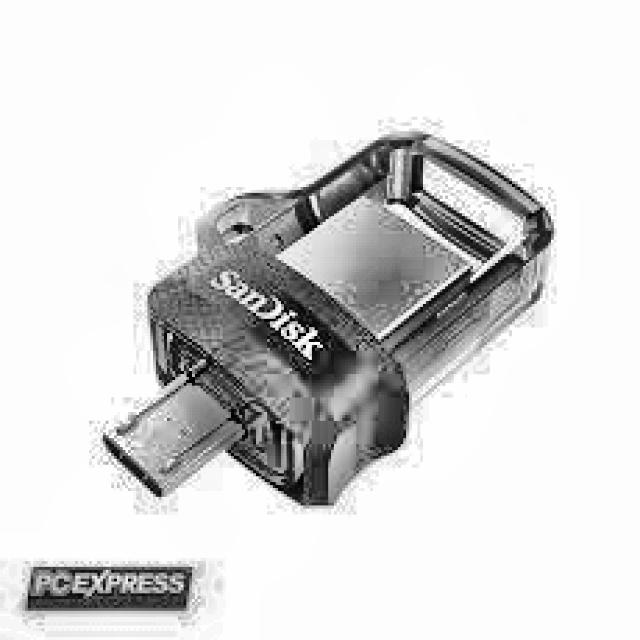Mug: (94, 126, 556, 512)
